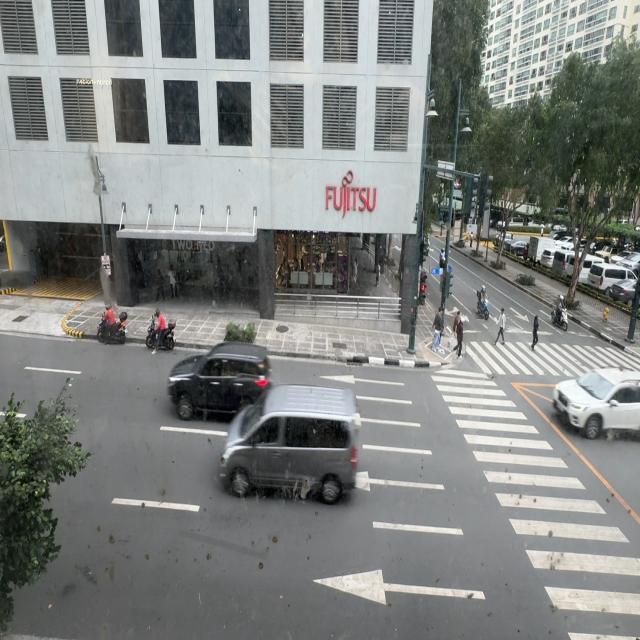crossing: (494, 308, 506, 345), (530, 313, 539, 349)
waiting: (432, 308, 444, 350), (453, 316, 463, 358)
